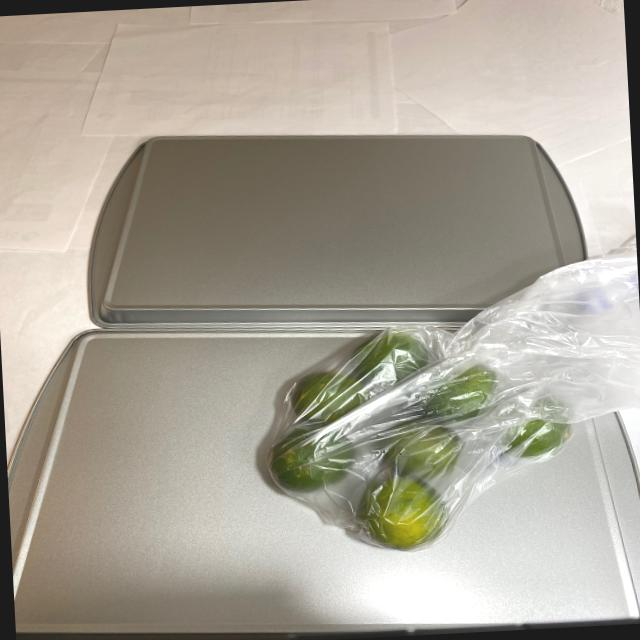lemon: (263, 322, 572, 557)
